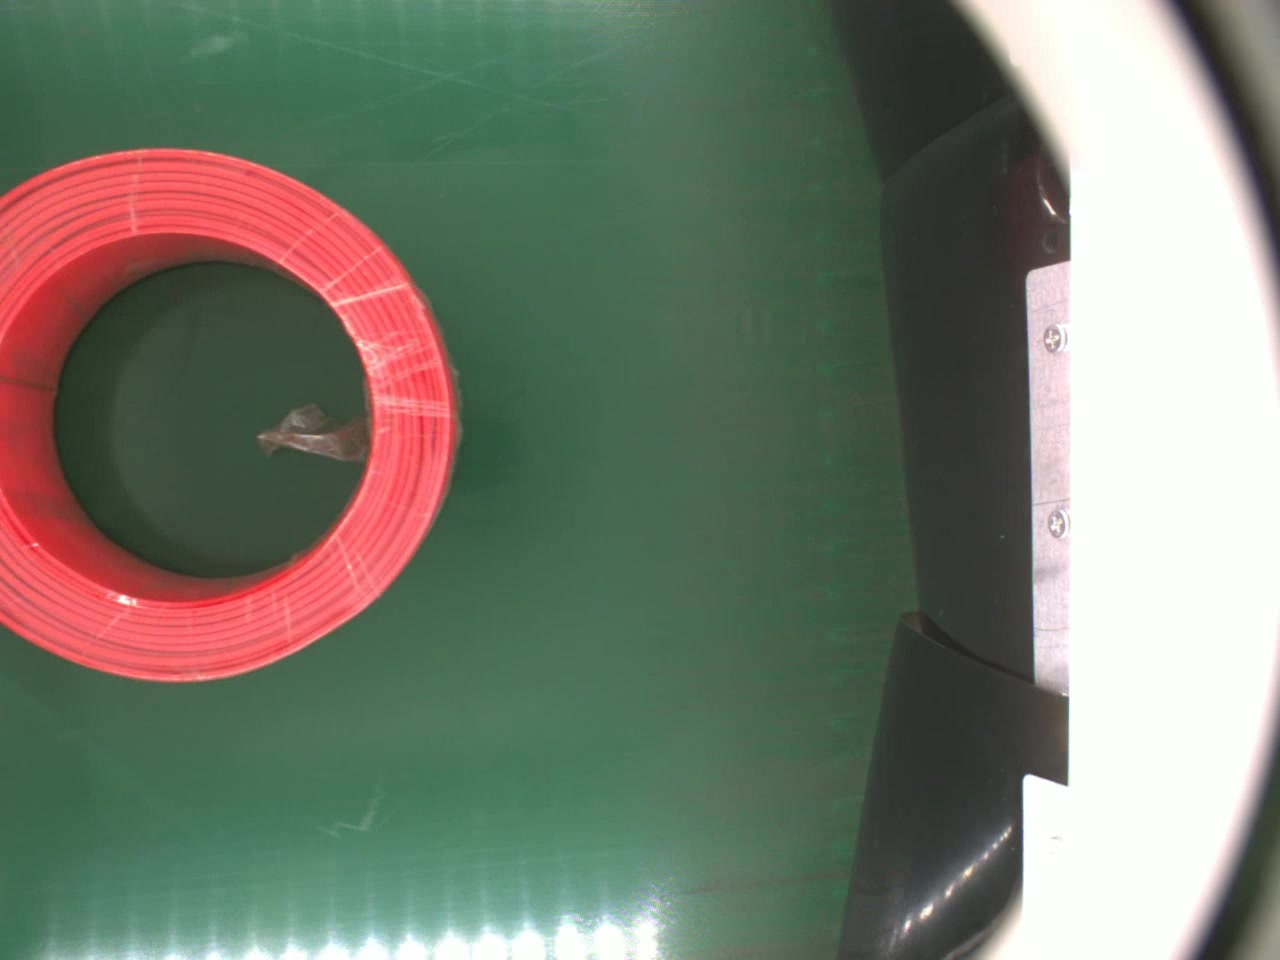red: (1, 147, 463, 683)
